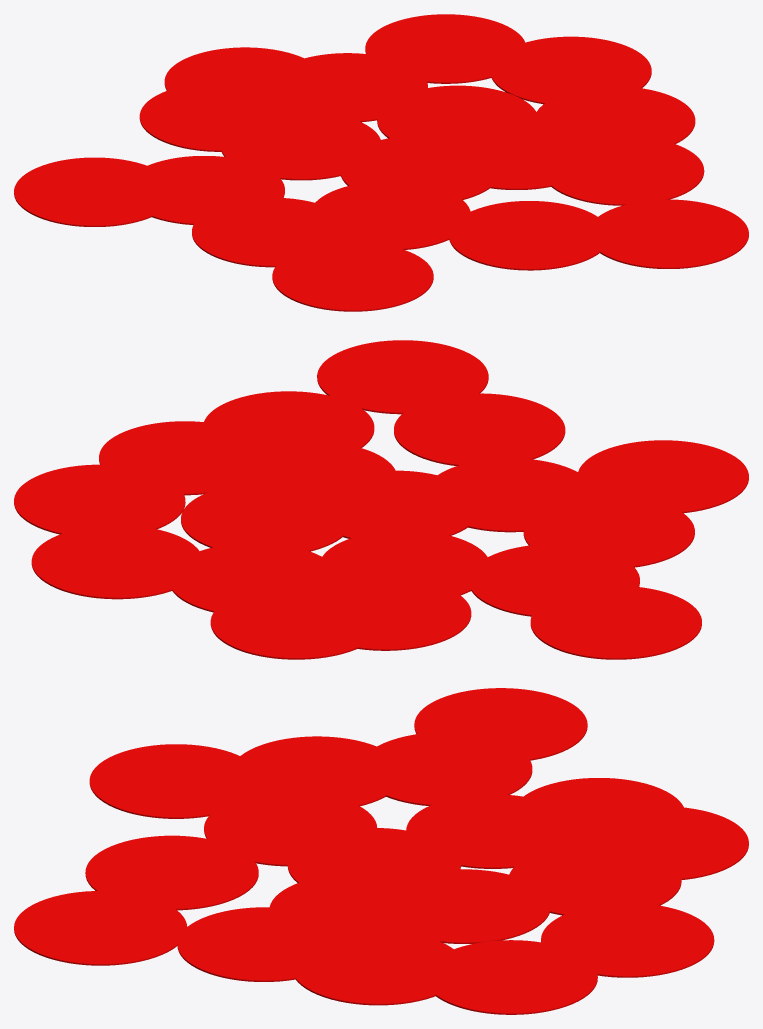
File: red2.dae
3 renders of one model, top to bottom at view 1: azimuth 30°, elevation 25°; view 2: azimuth 150°, elevation 25°; view 3: azimuth 270°, elevation 25°, orthographic. The views are drawn at different scales.
Parts seen in each view (by area): view 1: Body1.017; view 2: Body1.017; view 3: Body1.017.
Boxes of the visible parts, x1,y1,x2,y2 form: Body1.017: (14, 14, 748, 311); Body1.017: (14, 340, 748, 659); Body1.017: (14, 688, 748, 1014).
Bounding box in the file's own units: 4.44 × 4.24 × 0.01.
